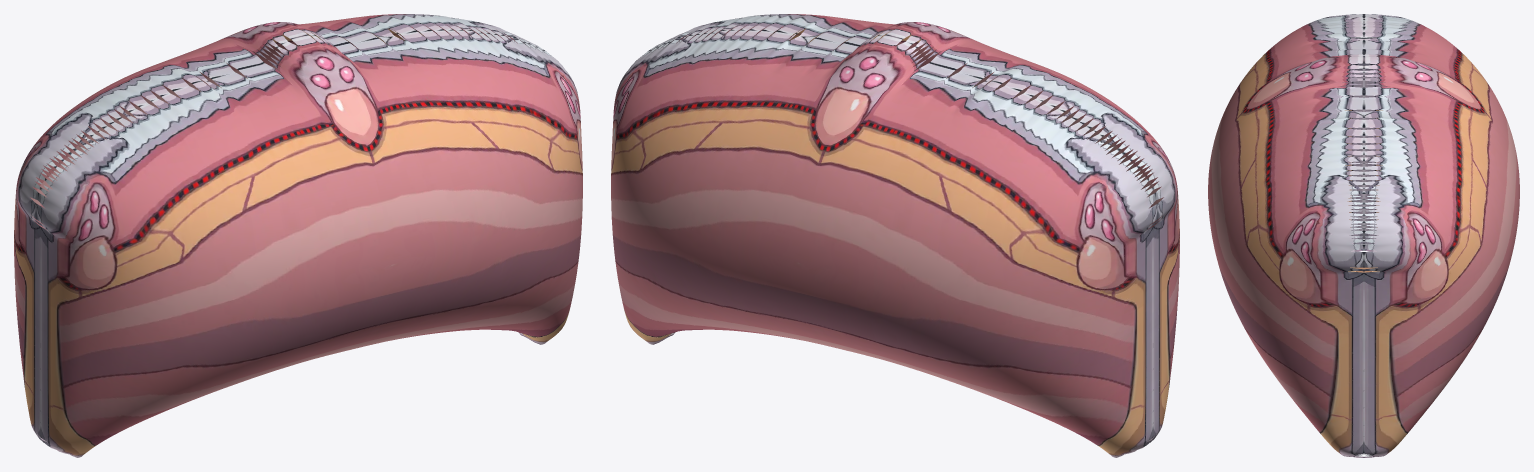
Rendered from chamber_wall.glb.
3 renders of one model, left to right at view 1: azimuth 30°, elevation 25°; view 2: azimuth 150°, elevation 25°; view 3: azimuth 270°, elevation 25°, orthographic. The views are drawn at different scales.
Parts seen in each view (by area): view 1: chamber_wall; view 2: chamber_wall; view 3: chamber_wall.
Part boxes in pixels (x1,y1,x2,y2): chamber_wall: (14, 14, 582, 457); chamber_wall: (611, 14, 1179, 457); chamber_wall: (1208, 14, 1519, 457).
Size of the model in its own units: 0.9889 by 0.6398 by 0.6009.
1 material, 1 textured.
